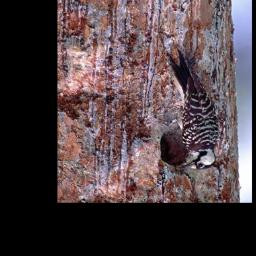Woodpecker: (168, 49, 218, 172)
